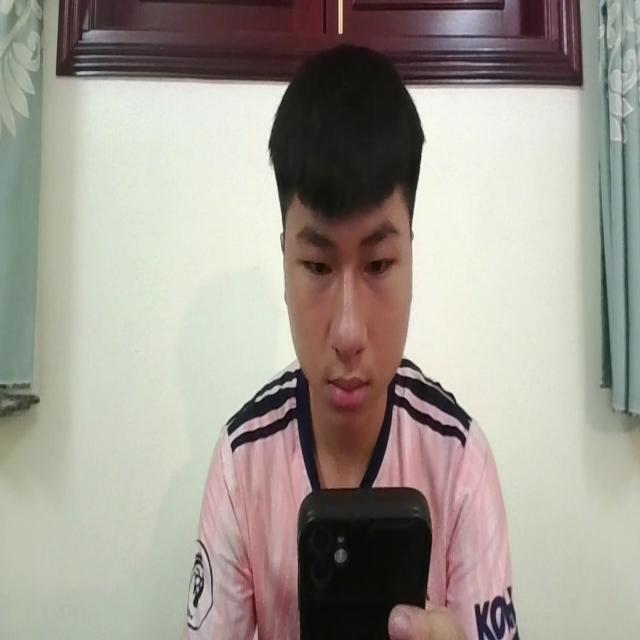phone: (294, 477, 432, 640)
student: (173, 43, 517, 640)
